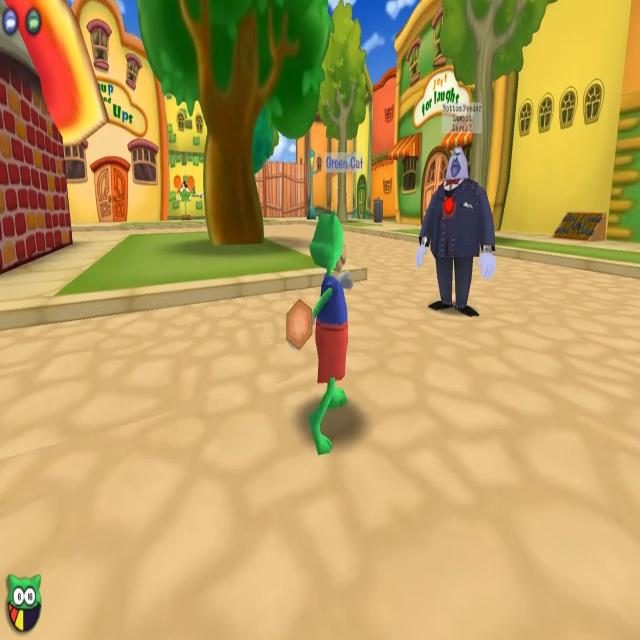bottomfeeder: (410, 93, 497, 324)
